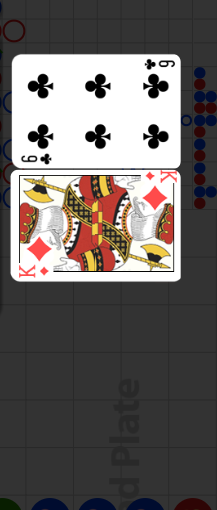6C: (20, 151, 54, 165)
KD: (17, 265, 50, 280)
